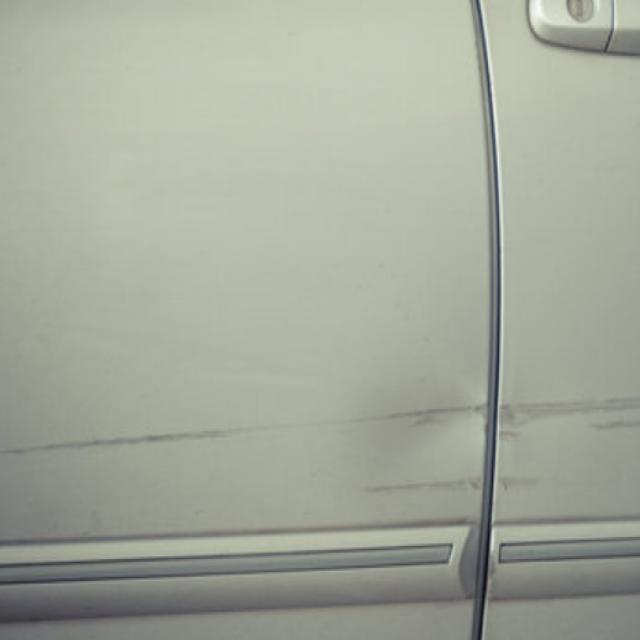dents: (400, 326, 552, 572)
